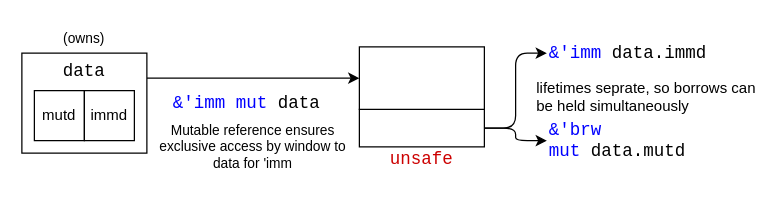
This 781x199 diagram has some shape labels left out. The centre of each missing label's shape, as x and y in pixels:
"access methods" belongs at (x=421, y=127).
"Window" belongs at (x=421, y=77).
